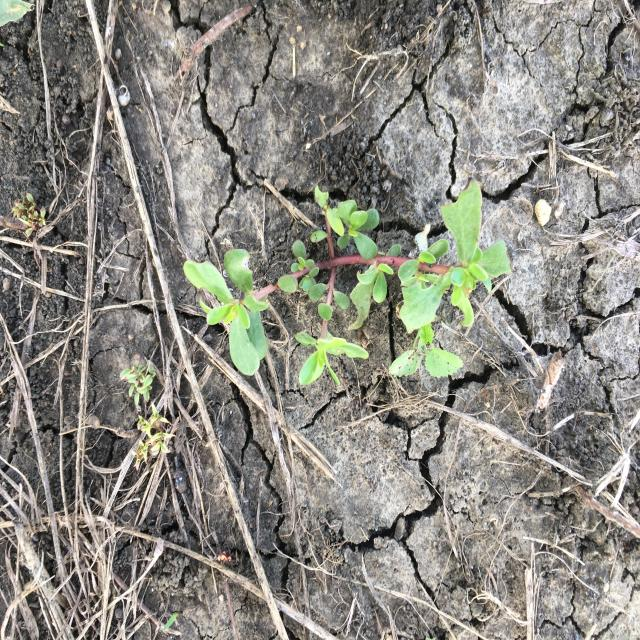Purslane: (181, 175, 515, 392)
